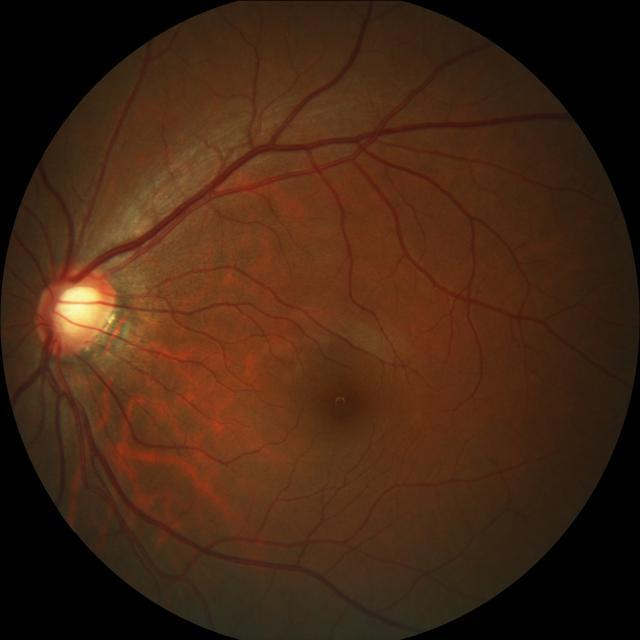OC: (52, 282, 101, 332)
OD: (38, 268, 120, 354)
